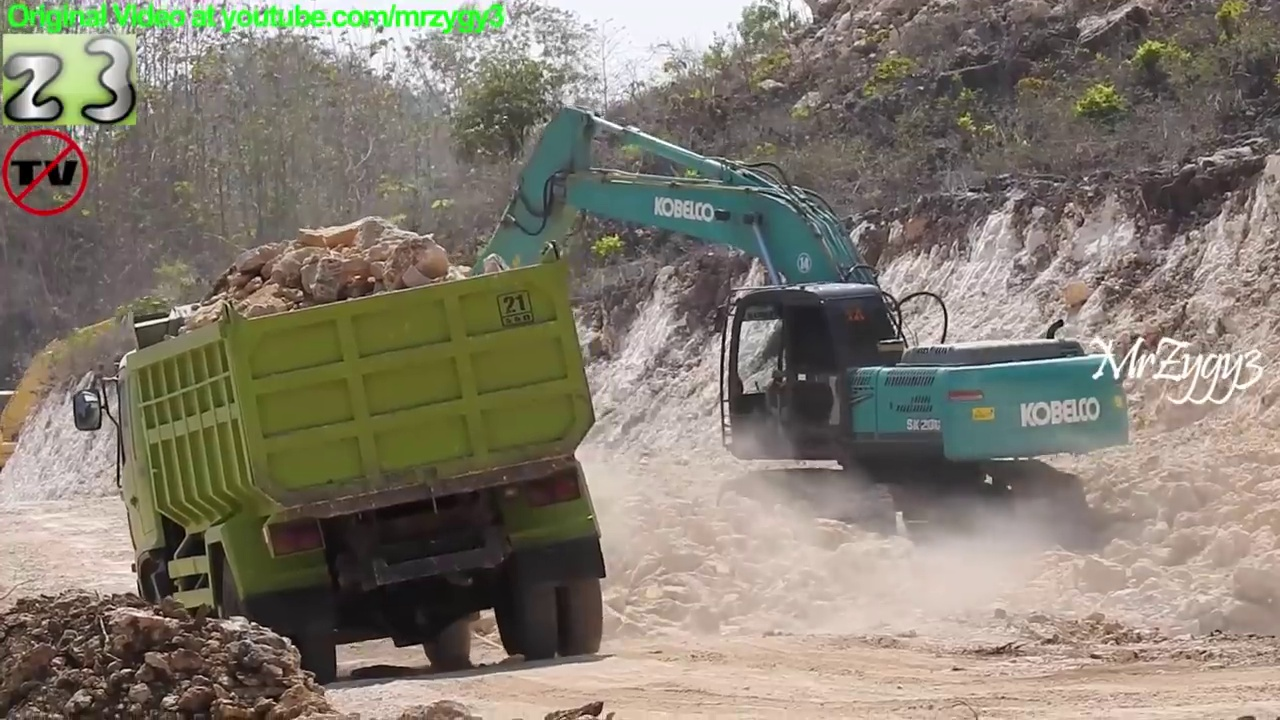excavator: (417, 106, 1141, 568), (1, 294, 186, 503)
truck: (67, 240, 627, 695)
